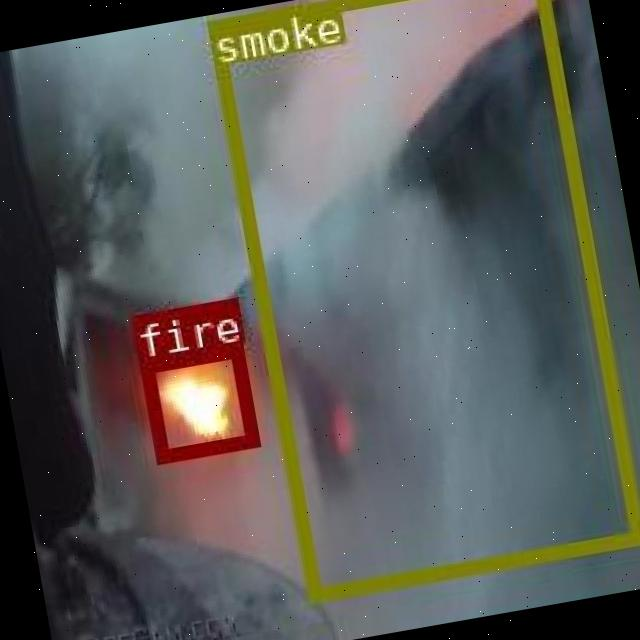fire: (137, 340, 256, 460)
smoke: (204, 0, 640, 600)
